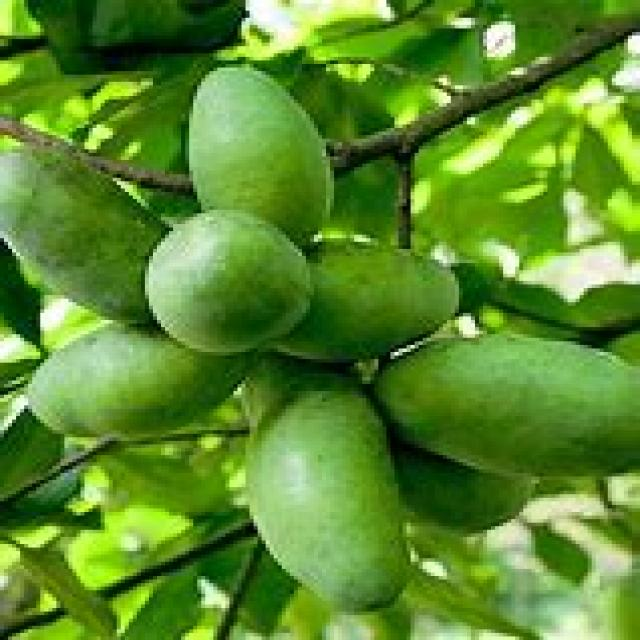mango: (245, 406, 414, 614), (395, 332, 640, 470), (184, 61, 346, 226), (142, 212, 316, 357), (0, 149, 147, 312), (26, 320, 220, 439), (311, 243, 472, 359)
